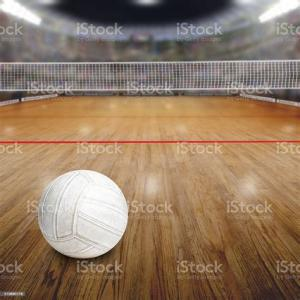Volley: (39, 169, 128, 259)
